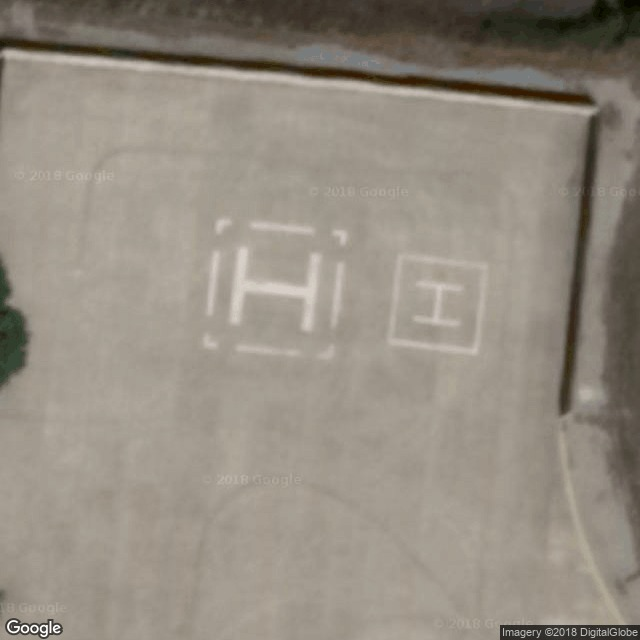heliport: (228, 236, 325, 340), (406, 272, 468, 333)
